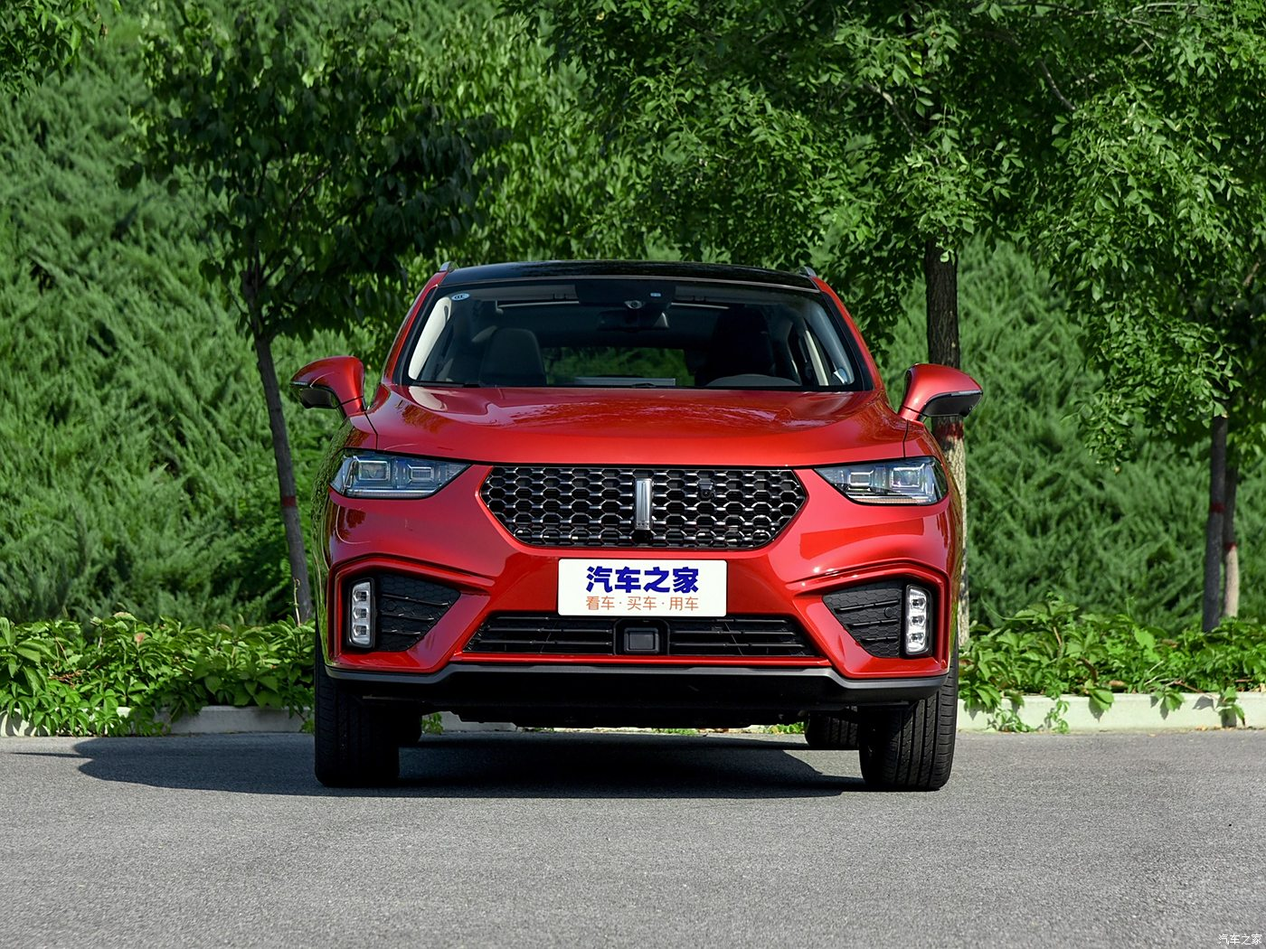WEY: (637, 481, 649, 529)
